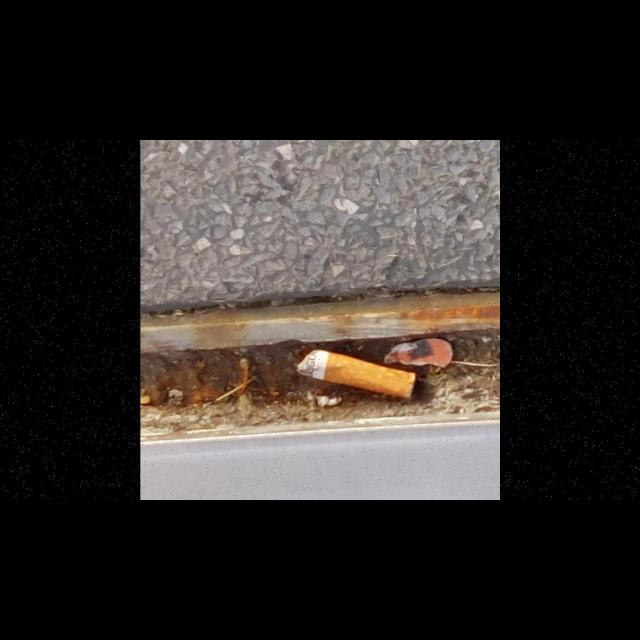cigarette: (295, 349, 417, 401)
